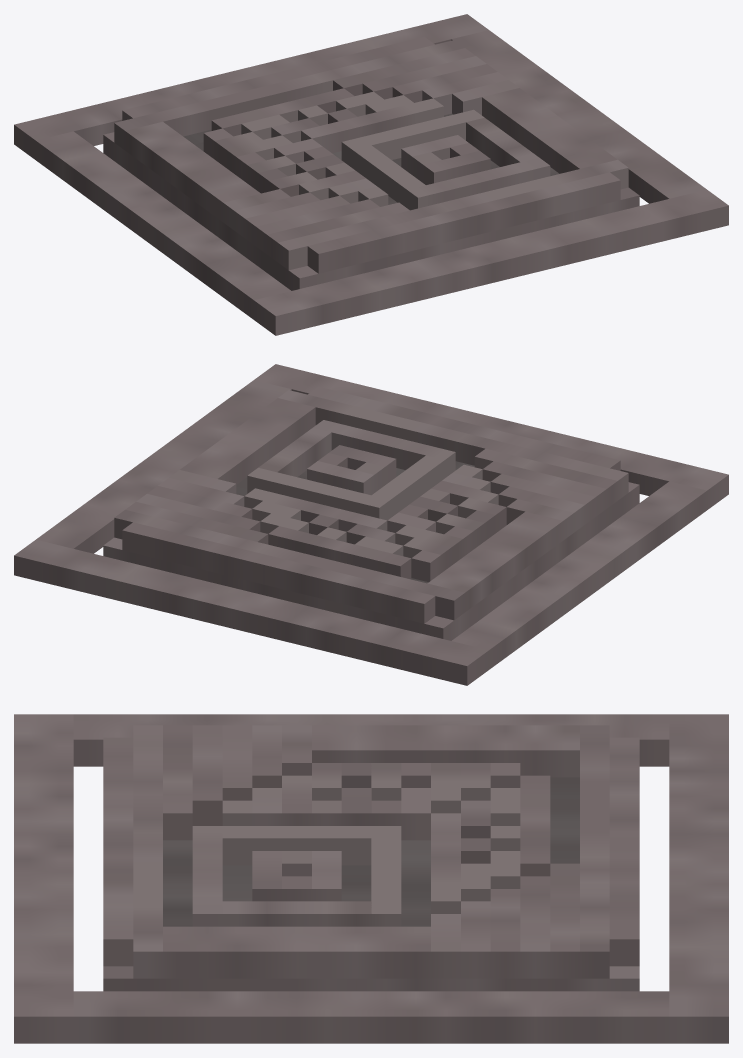
The model's file is Pressure_Plate_block.fbx.
3 renders of one model, top to bottom at view 1: azimuth 30°, elevation 25°; view 2: azimuth 150°, elevation 25°; view 3: azimuth 270°, elevation 25°, orthographic. The views are drawn at different scales.
Parts seen in each view (by area): view 1: Pressure_Plate_block; view 2: Pressure_Plate_block; view 3: Pressure_Plate_block.
Part boxes in pixels (<box>): Pressure_Plate_block: <box>14,14,728,335</box>; Pressure_Plate_block: <box>14,364,728,685</box>; Pressure_Plate_block: <box>14,714,728,1043</box>.
Bounding box in the file's own units: 24 × 2 × 24.
1 material, 1 textured.
